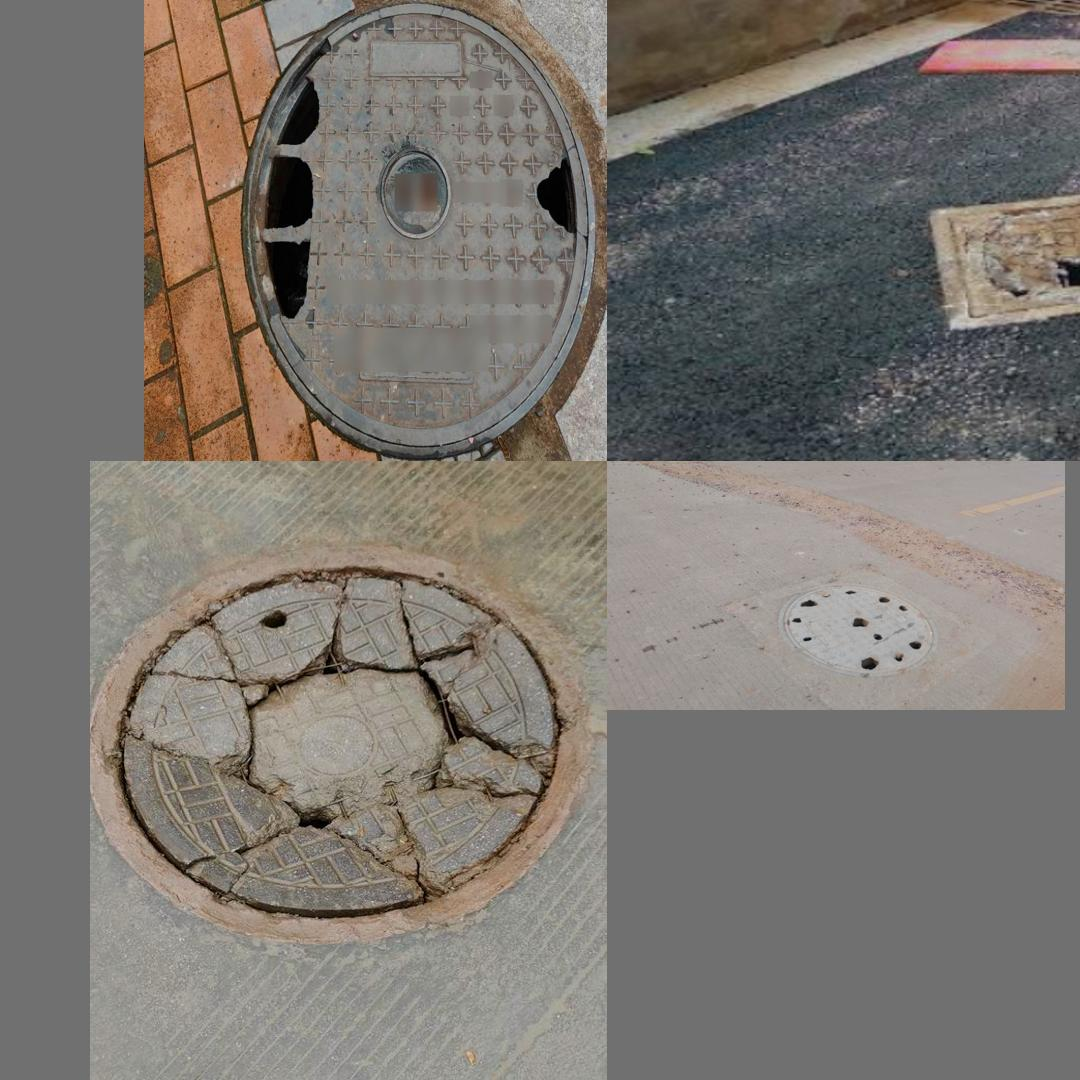broke: (99, 543, 581, 932), (251, 31, 589, 444), (928, 167, 1080, 330), (779, 583, 937, 673)
